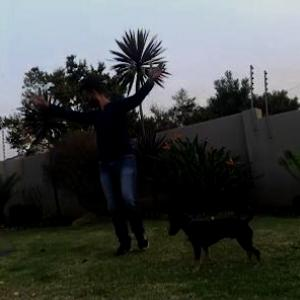takeoff: (26, 57, 176, 246)
